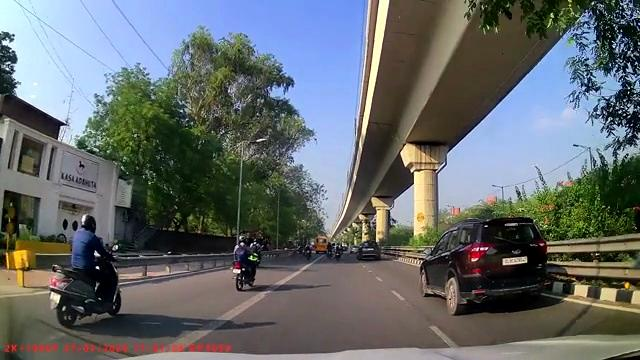motorcycle_with_helmet: (47, 212, 122, 325), (230, 234, 257, 291)
